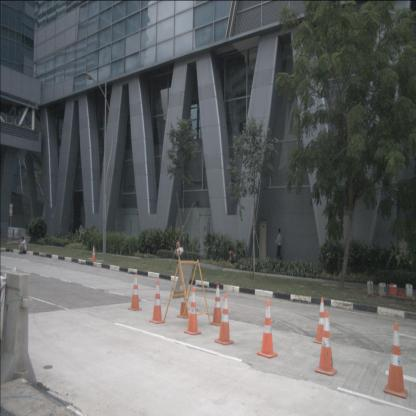barrier: (0, 270, 37, 394)
cone: (383, 322, 408, 399), (315, 310, 337, 376), (257, 300, 278, 358), (214, 294, 234, 345), (183, 287, 202, 335), (313, 297, 328, 344), (149, 279, 164, 324), (211, 285, 224, 326), (177, 279, 190, 319), (128, 274, 142, 311), (91, 245, 96, 262)
